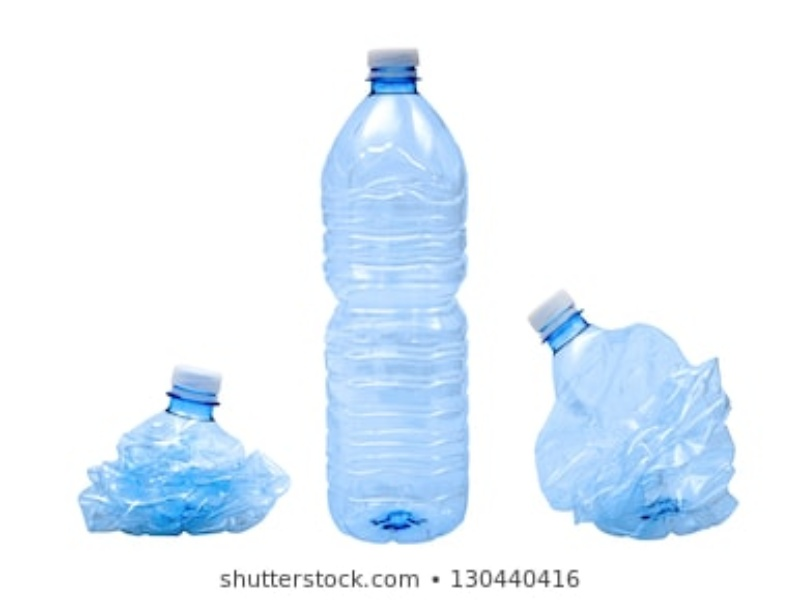bottle-cap: (524, 290, 583, 333), (359, 48, 421, 70), (165, 371, 225, 393)
plastic-bottle: (315, 48, 479, 545), (527, 288, 738, 539), (74, 367, 290, 538)
